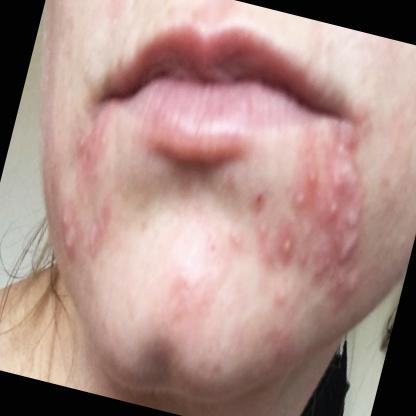Acne: (246, 182, 271, 222), (277, 230, 301, 263), (324, 194, 346, 230), (290, 180, 312, 212)
